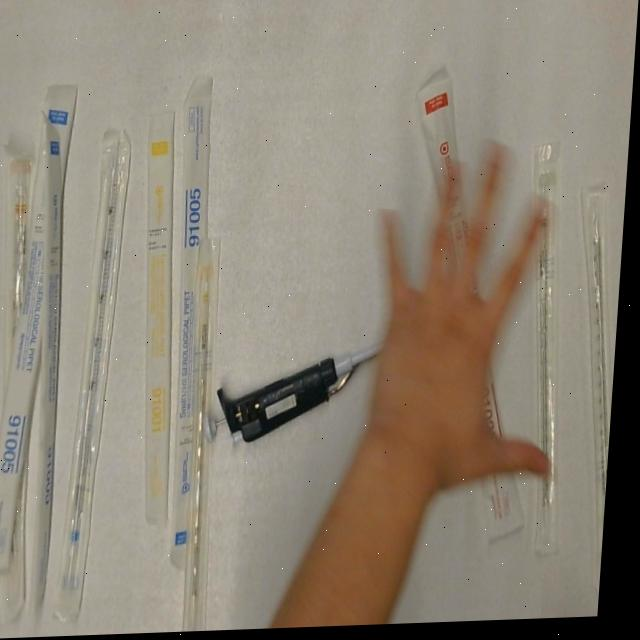Serelogical Pipet 1 mL - Sealed: (127, 111, 198, 533), (180, 231, 234, 634)
Serelogical Pipet 10 mL - Sealed: (0, 143, 45, 383)
Serelogical Pipet 2 mL - Sealed: (507, 143, 594, 574)
Serelogical Pipet 25 mL - Sealed: (392, 69, 561, 553)
Serelogical Pipet 5 mL - Sealed: (0, 76, 82, 583), (60, 122, 141, 625), (158, 72, 238, 578), (17, 110, 79, 620)
Single Channel Pipettor: (205, 327, 409, 450)
